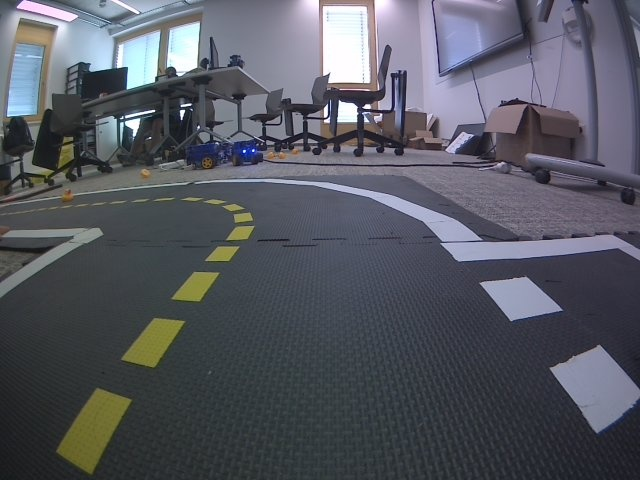Bot: (185, 142, 221, 170), (230, 140, 262, 166), (227, 54, 244, 70)
freeSpot: (439, 234, 640, 480)
